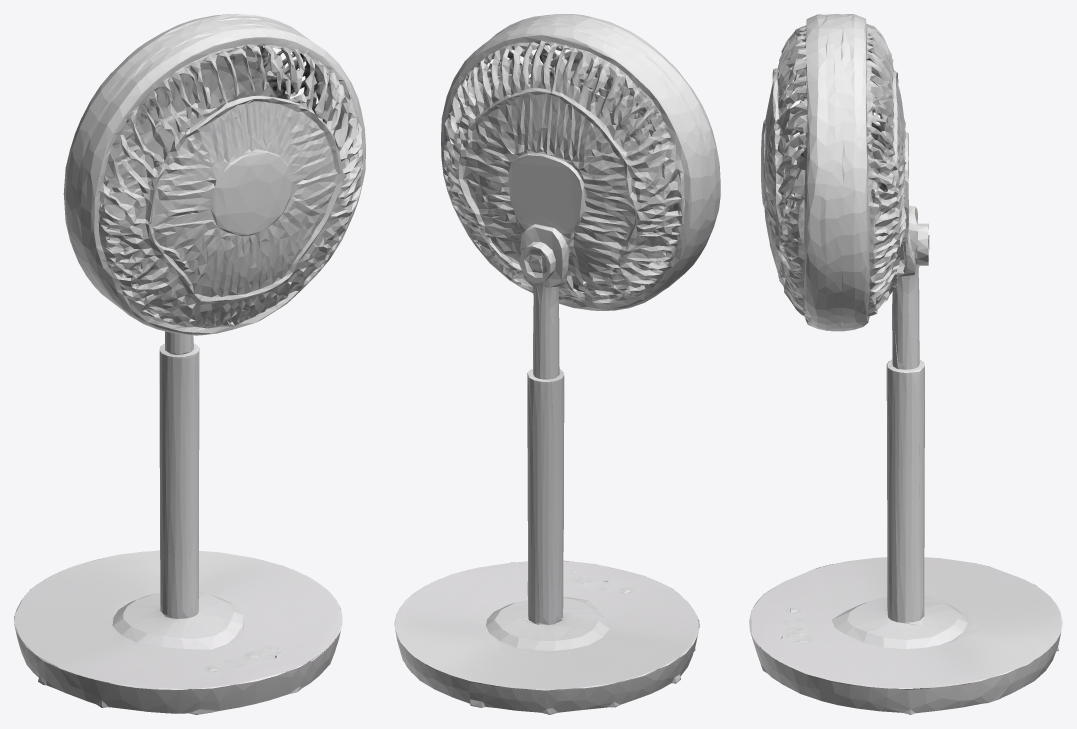
3 views of the same model, side by side, from view 1: azimuth 30°, elevation 25°; view 2: azimuth 150°, elevation 25°; view 3: azimuth 270°, elevation 25° (orthographic). The views are drawn at different scales.
Visible parts, largest first — view 1: world; view 2: world; view 3: world.
Boxes of the visible parts, bbox=[...] form: world: bbox=[14, 14, 365, 714]; world: bbox=[394, 14, 720, 714]; world: bbox=[749, 14, 1062, 714].
Size of the model in its own units: 0.4591 by 1 by 0.4574.
1 material, 1 textured.
